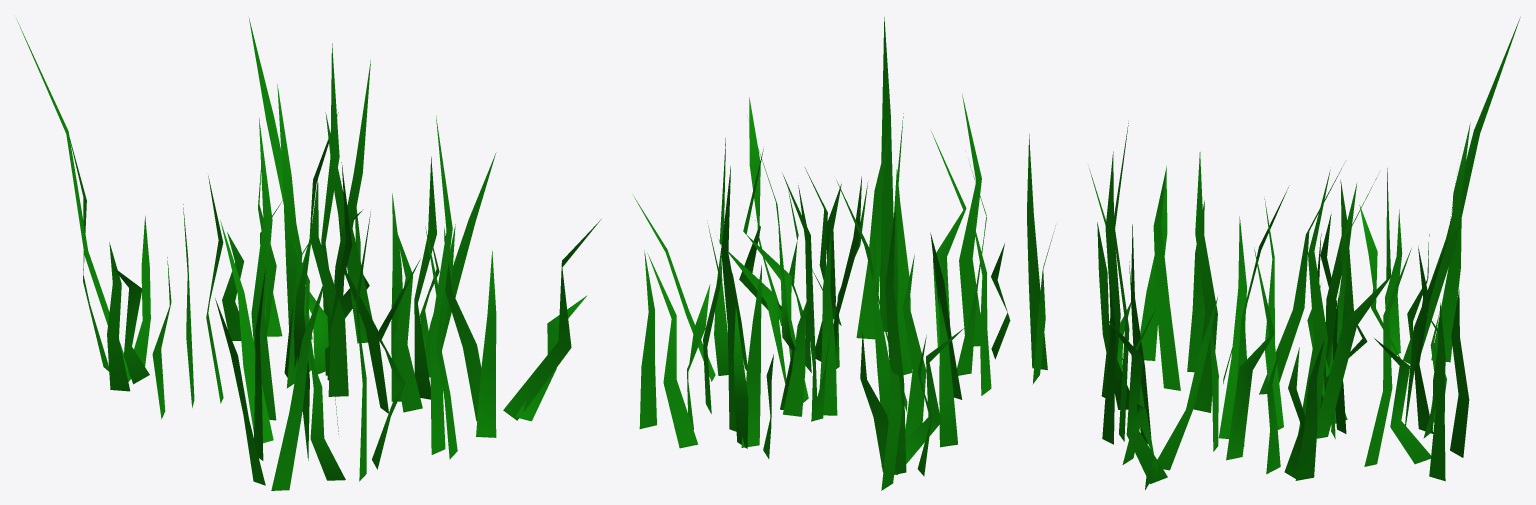
File: Grassv2.fbx
The picture shows the model from 3 angles, left to right: view 1: azimuth 30°, elevation 25°; view 2: azimuth 150°, elevation 25°; view 3: azimuth 270°, elevation 25°; orthographic projection. The views are drawn at different scales.
Parts seen in each view (by area): view 1: Bake; view 2: Bake; view 3: Bake.
Part boxes in pixels (x1,y1,x2,y2): Bake: [16, 18, 601, 490]; Bake: [632, 17, 1055, 490]; Bake: [1089, 17, 1520, 489].
Size of the model in its own units: 177 by 152 by 183.
Materials: 1 (1 with a texture image).
